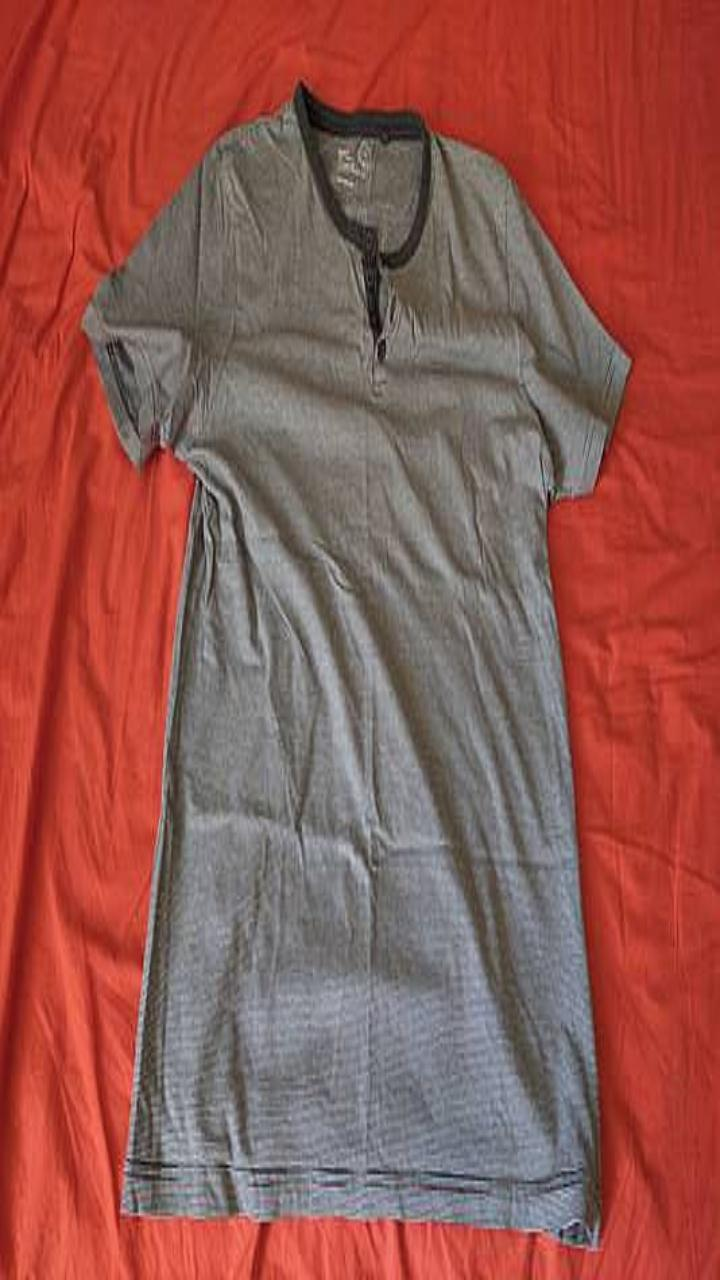T-Shirt: (81, 80, 630, 1247)
